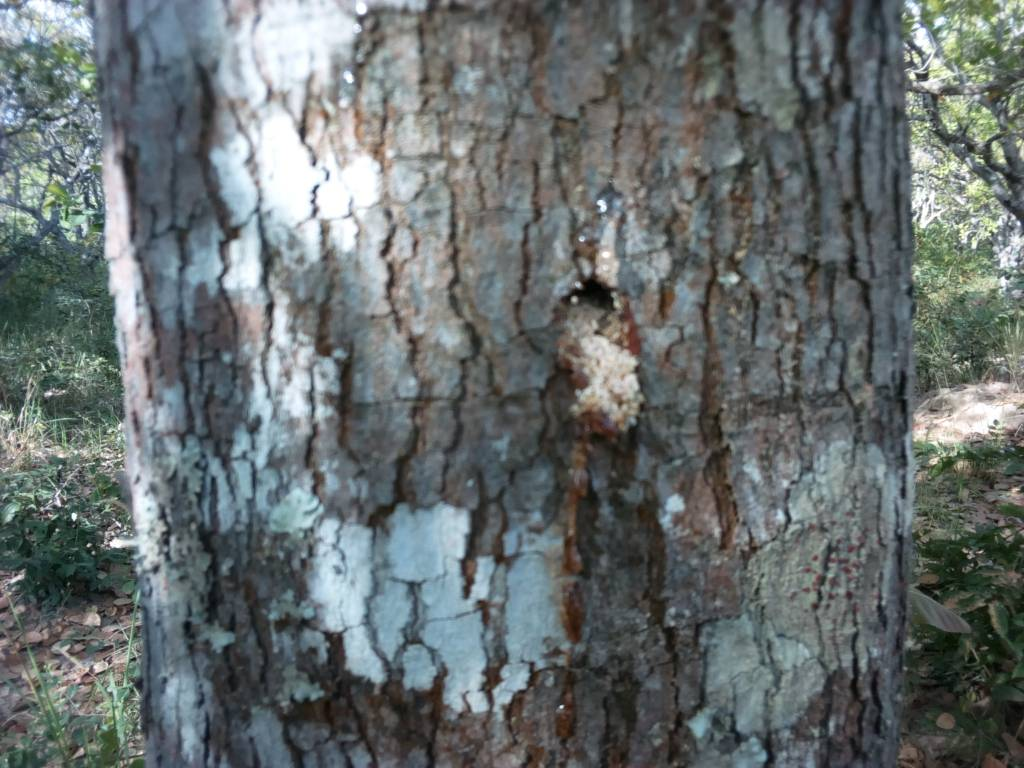Apate terebrans: (523, 259, 747, 437)
